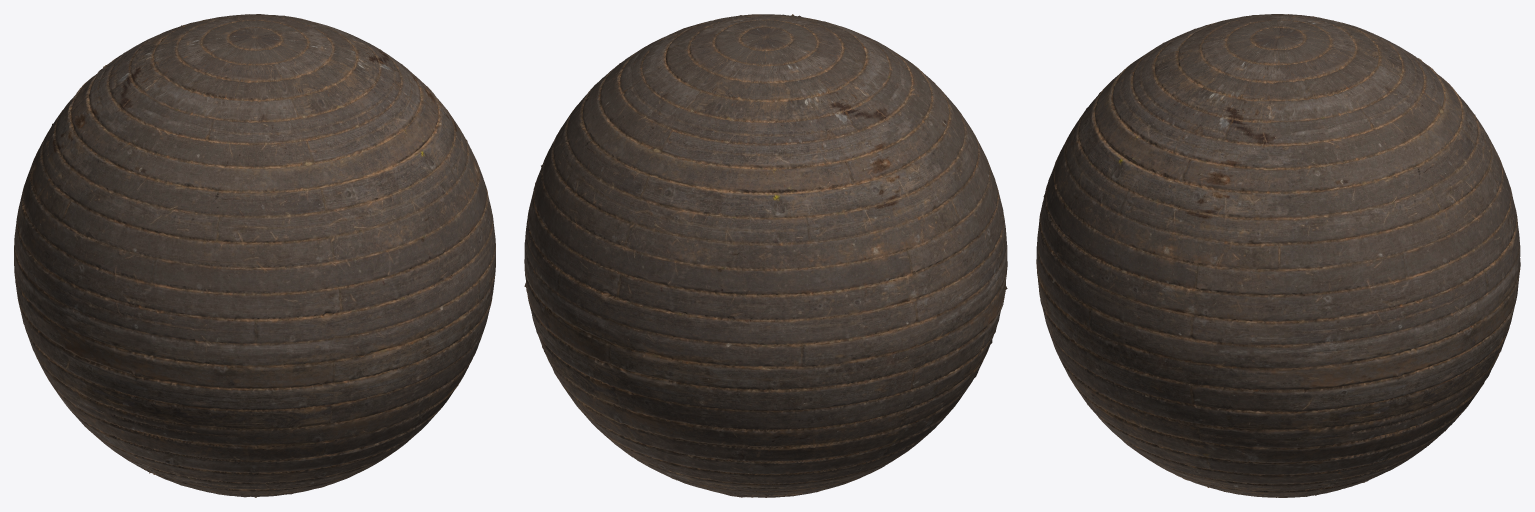
File: old_wood_floor_1k.gltf
3 renders of one model, left to right at view 1: azimuth 30°, elevation 25°; view 2: azimuth 150°, elevation 25°; view 3: azimuth 270°, elevation 25°, orthographic.
Visible parts, largest first — view 1: sphere_gltf; view 2: sphere_gltf; view 3: sphere_gltf.
Boxes of the visible parts, <box> form: sphere_gltf: <box>14,14,495,497</box>; sphere_gltf: <box>524,14,1007,497</box>; sphere_gltf: <box>1036,14,1520,497</box>.
Size of the model in its own units: 3.05 by 3.05 by 3.06.
1 material, 1 textured.
